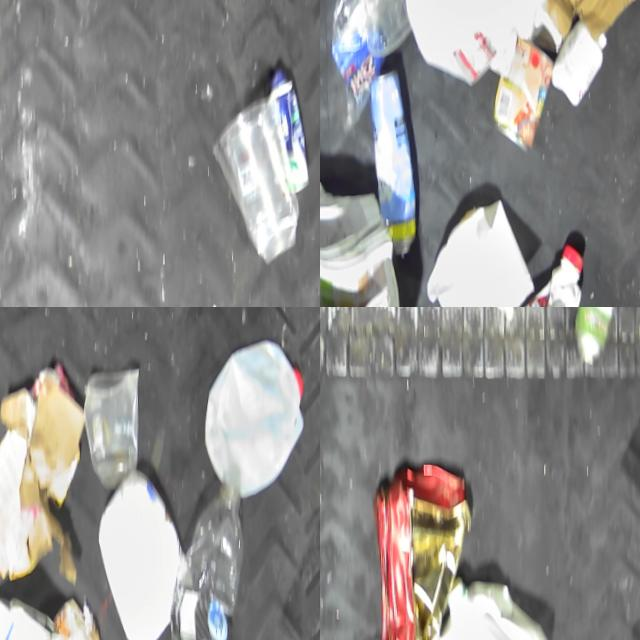can: (365, 66, 423, 259), (490, 34, 560, 155), (567, 307, 628, 365), (48, 592, 102, 640)
milk_jug: (198, 332, 310, 502), (394, 0, 555, 87), (436, 566, 559, 640)
non_white_jug: (496, 236, 591, 307)
plastic_bottle: (163, 478, 251, 640)
